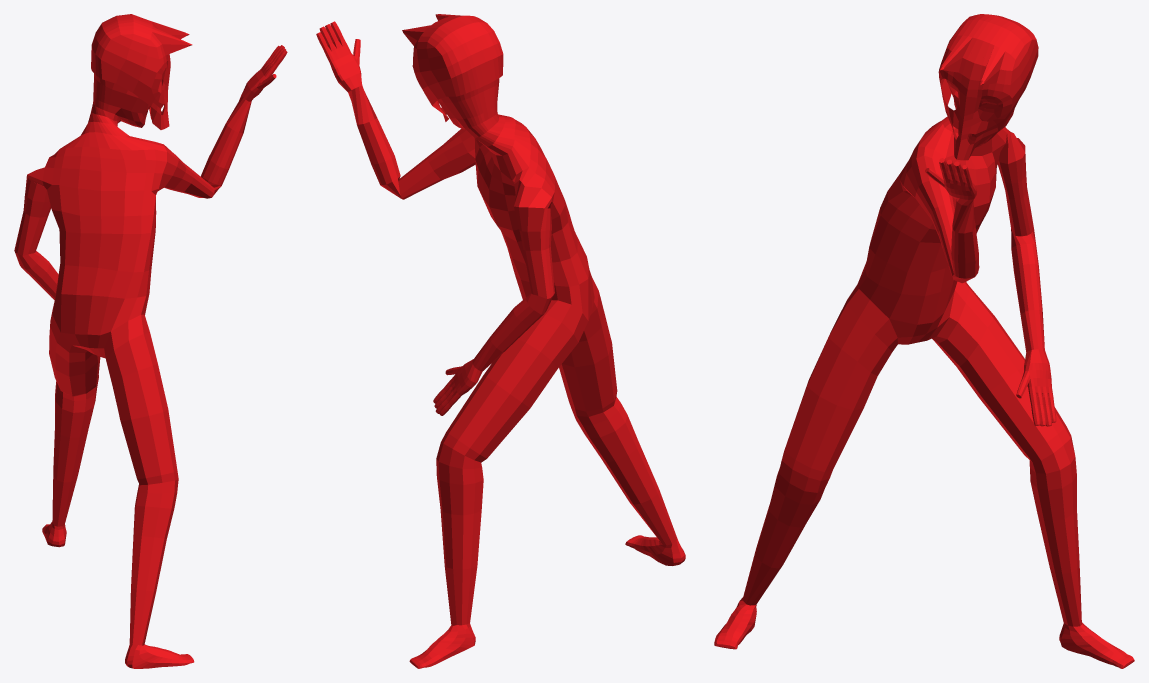
Rendered from activaAlarma_000105.obj.
3 views of the same model, side by side, from view 1: azimuth 30°, elevation 25°; view 2: azimuth 150°, elevation 25°; view 3: azimuth 270°, elevation 25° (orthographic). The views are drawn at different scales.
Parts seen in each view (by area): view 1: Plane.002_Plane.001; view 2: Plane.002_Plane.001; view 3: Plane.002_Plane.001.
Boxes of the visible parts, x1=… form: Plane.002_Plane.001: x1=14, y1=14, x2=287, y2=668; Plane.002_Plane.001: x1=316, y1=14, x2=685, y2=668; Plane.002_Plane.001: x1=714, y1=14, x2=1134, y2=668.
Size of the model in its own units: 3.06 by 6.55 by 3.78.
